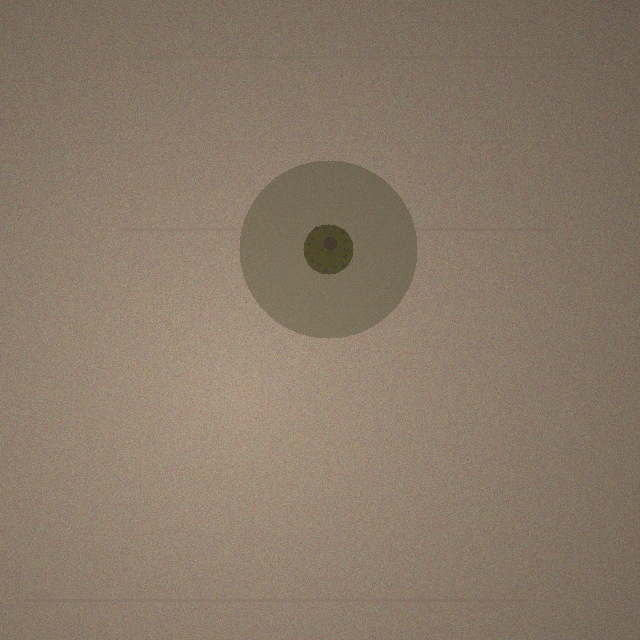cold_weld: (239, 160, 417, 338)
